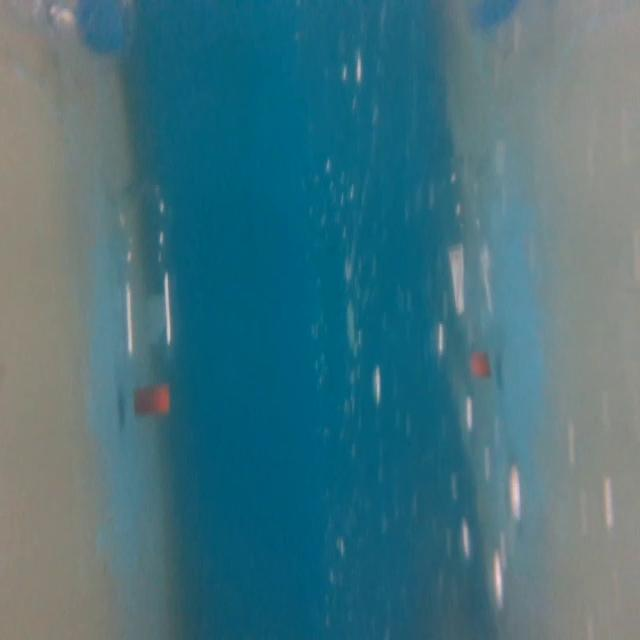plastic bottle: (106, 169, 188, 426)
